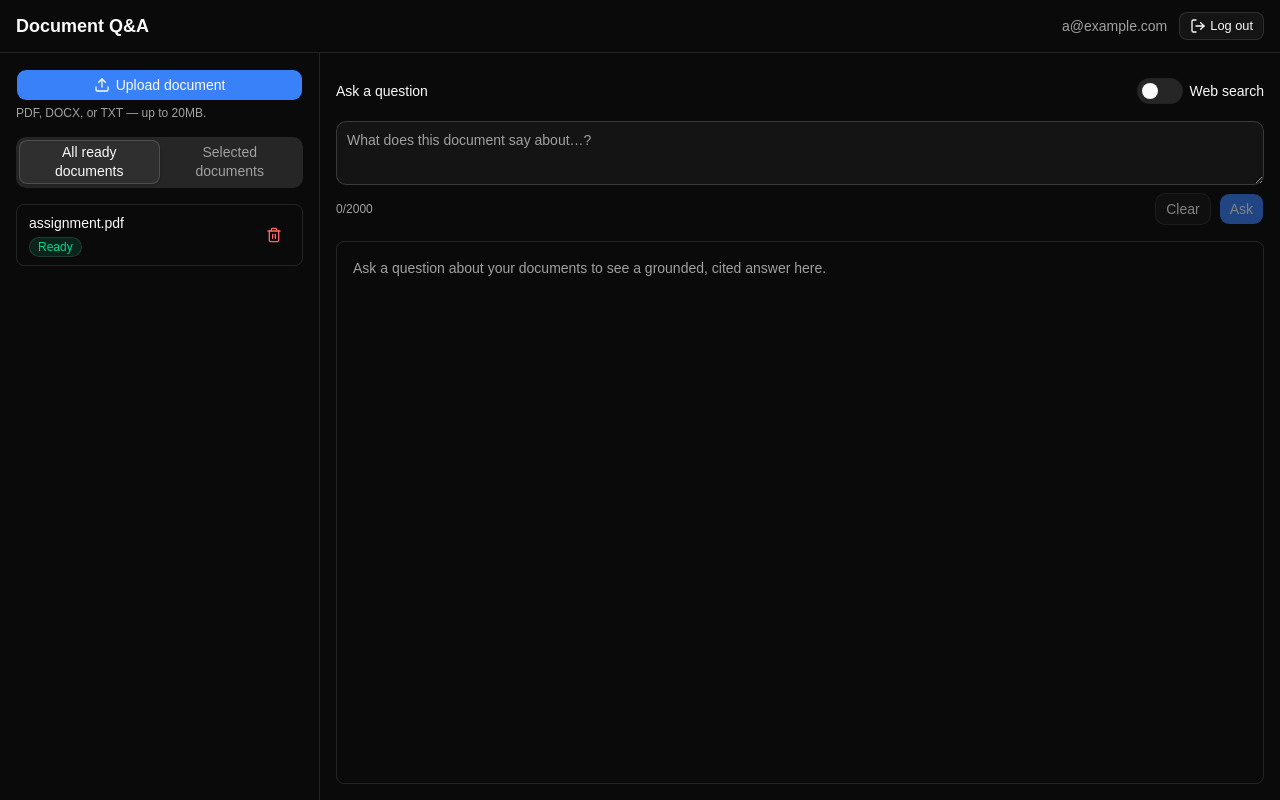
WorkspacePage question + citation flow › opens the citation panel with filename, location, and passage text
The width and height of the screenshot is (1280, 800).
expect the button "Ask" is shown: met, box [1219,193,1264,225]
Type "What is the time budget?" into the text box labelled "Ask a question". click: (800, 153)
box: [336,121,1264,185]
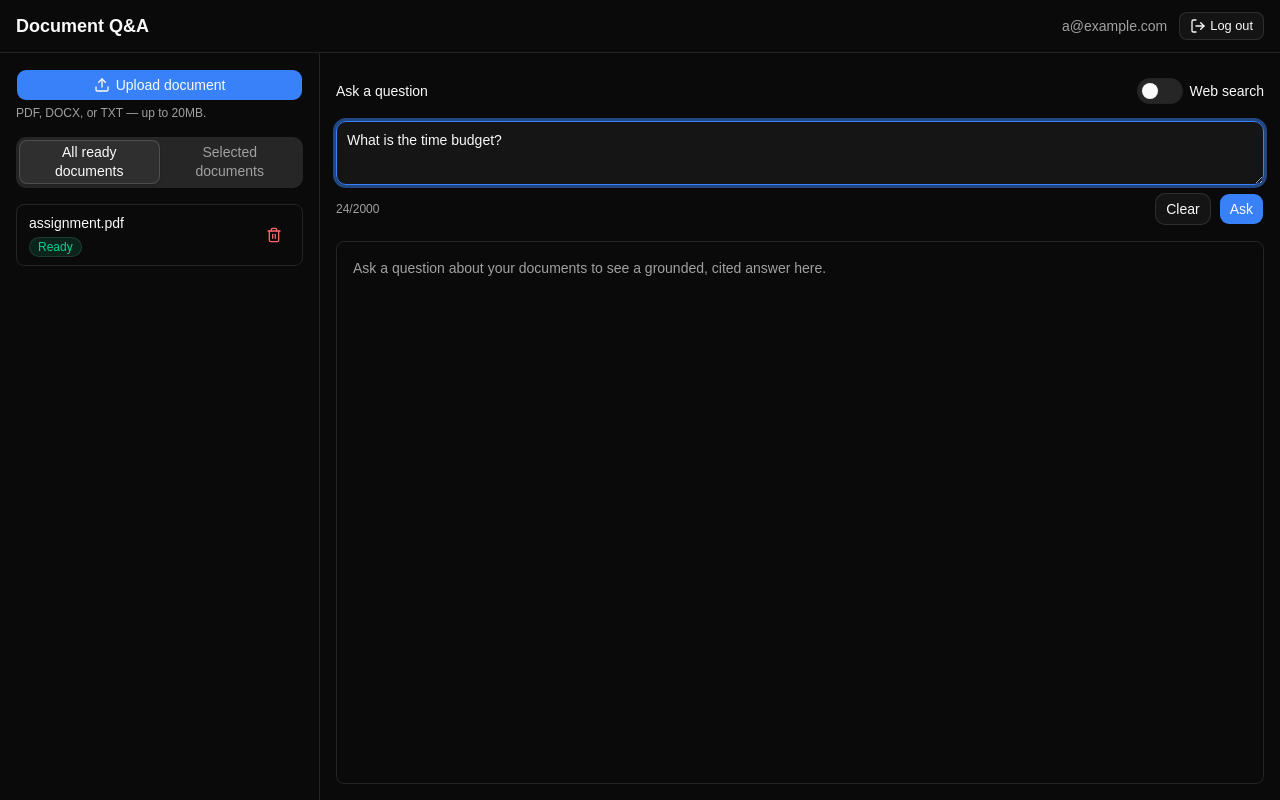
Click the button "Ask". click: (1241, 209)
box: [1219,193,1264,225]
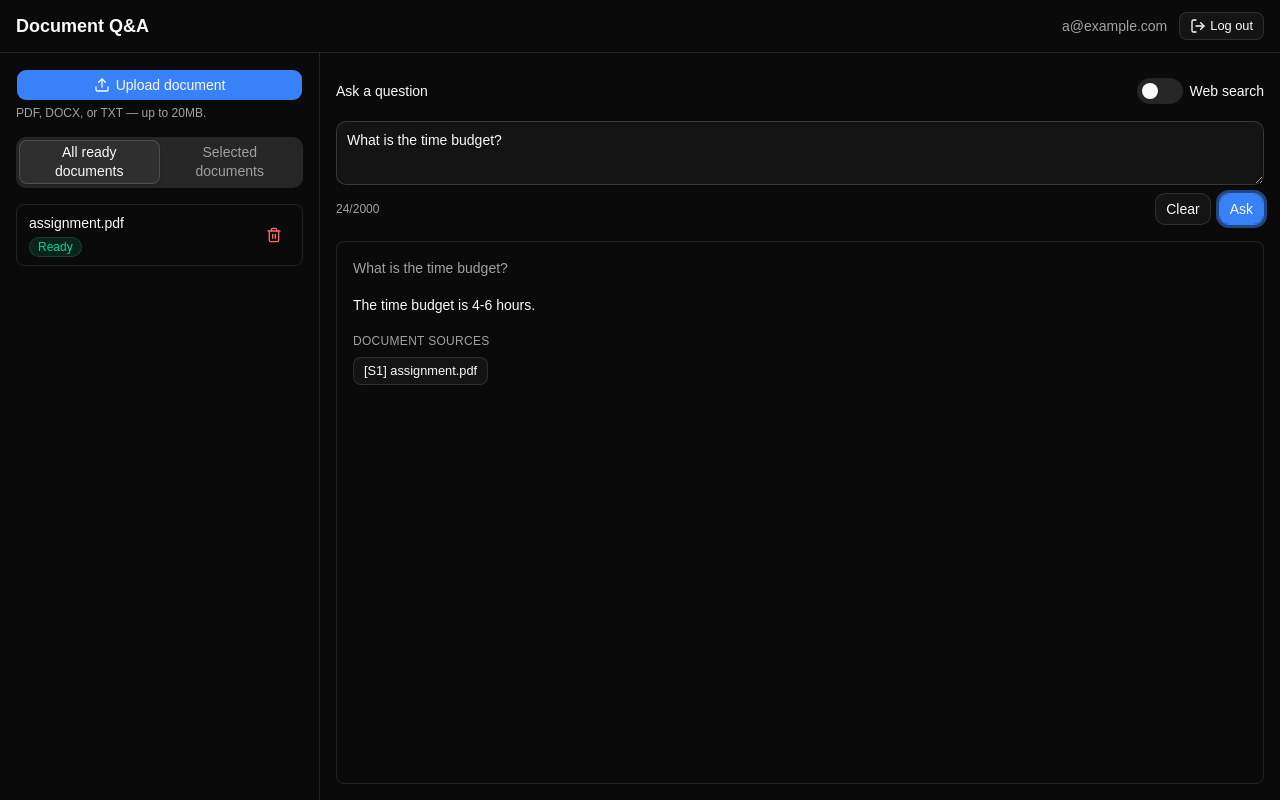
Click the button "[S1] assignment.pdf". click: (421, 371)
box: [353,357,488,385]
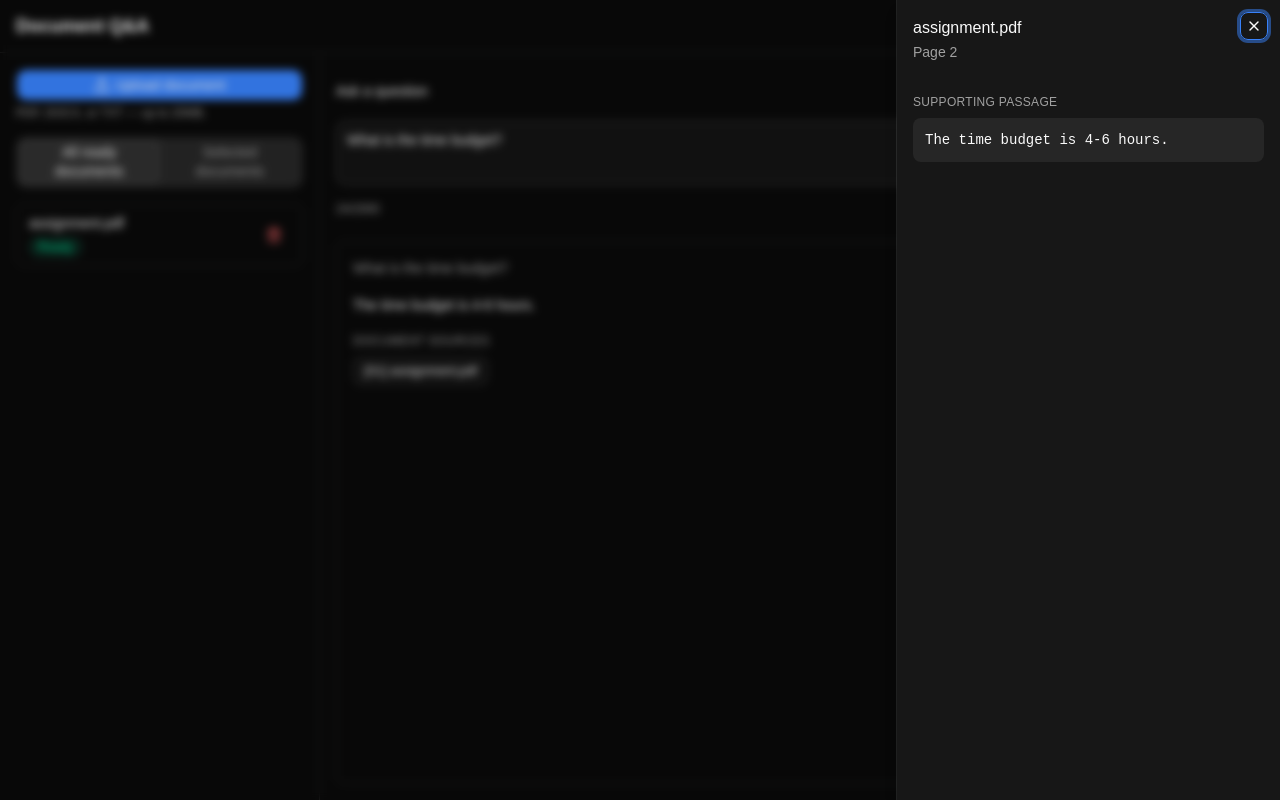
expect the text "Page 2" is shown: met, box [913,44,957,60]
expect the text "The time budget is 4-6 hours." is shown: met, box [913,118,1264,162]
